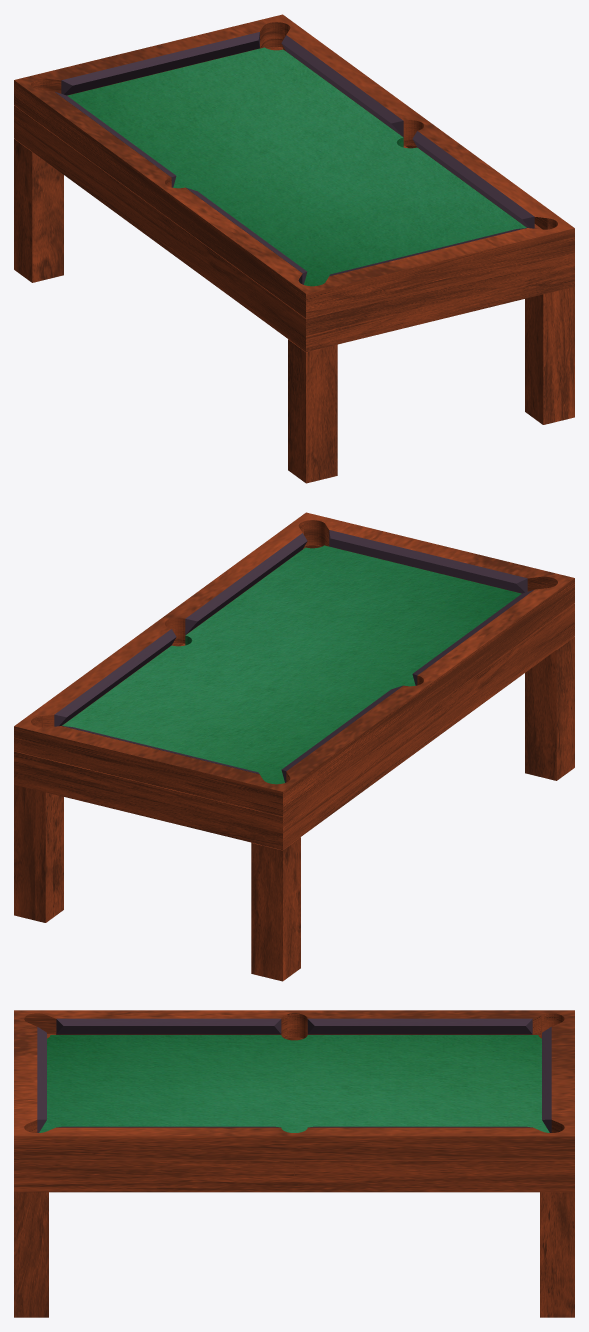
Rendered from PoolTable.obj.
The picture shows the model from 3 angles, top to bottom: view 1: azimuth 30°, elevation 25°; view 2: azimuth 150°, elevation 25°; view 3: azimuth 270°, elevation 25°; orthographic projection. The views are drawn at different scales.
Parts seen in each view (by area): view 1: TableTop_BottomTable_Cube, outside_Cube.006, LEgs_Cube.004, Cushion_Cube.020; view 2: TableTop_BottomTable_Cube, outside_Cube.006, LEgs_Cube.004, Cushion_Cube.020; view 3: outside_Cube.006, TableTop_BottomTable_Cube, Cushion_Cube.020, LEgs_Cube.004.
Part boxes in pixels (x1,y1,x2,y2): TableTop_BottomTable_Cube: (67,47,526,286); outside_Cube.006: (14,14,574,351); LEgs_Cube.004: (14,138,574,483); Cushion_Cube.020: (55,32,534,284); TableTop_BottomTable_Cube: (62,545,521,784); outside_Cube.006: (14,512,574,849); LEgs_Cube.004: (14,636,574,981); Cushion_Cube.020: (54,530,533,782); outside_Cube.006: (14,1010,574,1192); TableTop_BottomTable_Cube: (39,1035,549,1132); Cushion_Cube.020: (37,1018,551,1132); LEgs_Cube.004: (14,1192,574,1317).
Bounding box in the file's own units: 8.5 × 5.73 × 16.
Materials: 4 (4 with a texture image).
